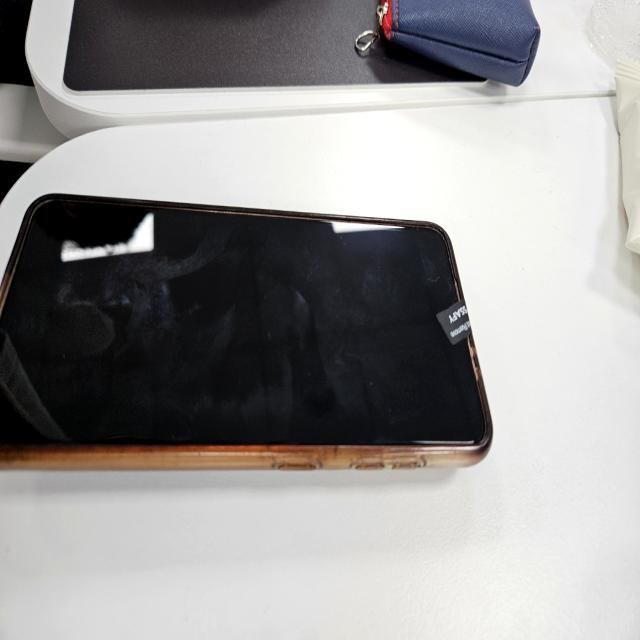phone: (0, 192, 495, 480)
sticker: (434, 298, 472, 346)
